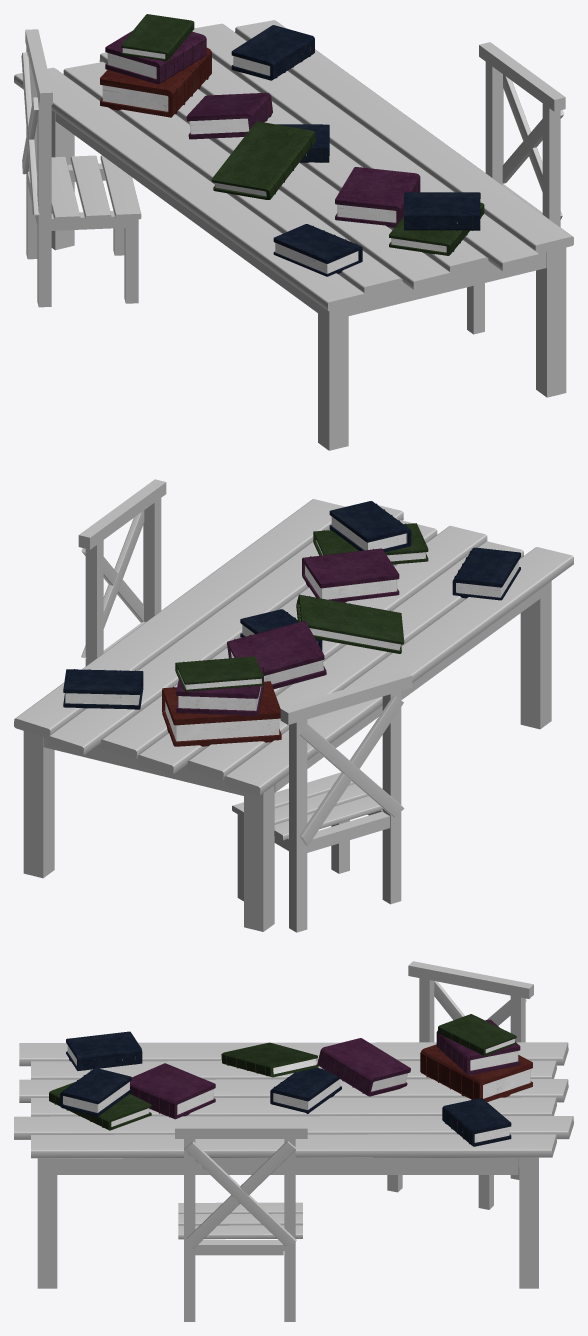
The model's file is SM_TableSet_02.fbx.
3 views of the same model, one above another, from view 1: azimuth 30°, elevation 25°; view 2: azimuth 150°, elevation 25°; view 3: azimuth 270°, elevation 25° (orthographic). The views are drawn at different scales.
Parts seen in each view (by area): view 1: SM_Table_01.001, SM_Chair_01.004, SM_Chair_01.005, BoolShelf_Low.077, BoolShelf_Low.072, BoolShelf_Low.074, BoolShelf_Low.076, BoolShelf_Low.079, BoolShelf_Low.078, BoolShelf_Low.083, BoolShelf_Low.081, BoolShelf_Low.082 (+2 smaller); view 2: SM_Table_01.001, SM_Chair_01.004, SM_Chair_01.005, BoolShelf_Low.072, BoolShelf_Low.077, BoolShelf_Low.074, BoolShelf_Low.076, BoolShelf_Low.079, BoolShelf_Low.083, BoolShelf_Low.078, BoolShelf_Low.082, BoolShelf_Low.081 (+2 smaller); view 3: SM_Table_01.001, SM_Chair_01.005, SM_Chair_01.004, BoolShelf_Low.076, BoolShelf_Low.072, BoolShelf_Low.074, BoolShelf_Low.078, BoolShelf_Low.083, BoolShelf_Low.079, BoolShelf_Low.077, BoolShelf_Low.075, BoolShelf_Low.082 (+2 smaller).
Part boxes in pixels (box(x1,y1,x2,y2)): SM_Table_01.001: box(14, 20, 573, 450); SM_Chair_01.004: box(21, 29, 141, 307); SM_Chair_01.005: box(467, 42, 565, 334); BoolShelf_Low.077: box(211, 121, 316, 199); BoolShelf_Low.072: box(100, 48, 211, 117); BoolShelf_Low.074: box(335, 167, 420, 227); BoolShelf_Low.076: box(186, 92, 272, 139); BoolShelf_Low.079: box(231, 25, 314, 80); BoolShelf_Low.078: box(273, 224, 362, 276); BoolShelf_Low.083: box(404, 192, 480, 230); BoolShelf_Low.081: box(105, 31, 206, 84); BoolShelf_Low.082: box(121, 14, 194, 61); SM_Table_01.001: box(14, 499, 573, 931); SM_Chair_01.004: box(232, 671, 412, 932); SM_Chair_01.005: box(78, 479, 166, 665); BoolShelf_Low.072: box(162, 681, 281, 746); BoolShelf_Low.077: box(296, 594, 404, 653); BoolShelf_Low.074: box(302, 548, 399, 602); BoolShelf_Low.076: box(227, 620, 326, 688); BoolShelf_Low.079: box(63, 669, 143, 709); BoolShelf_Low.083: box(329, 501, 411, 552); BoolShelf_Low.078: box(452, 547, 520, 600); BoolShelf_Low.082: box(175, 656, 263, 691); BoolShelf_Low.081: box(176, 667, 263, 715); SM_Table_01.001: box(14, 1042, 573, 1288); SM_Chair_01.005: box(175, 1123, 307, 1321); SM_Chair_01.004: box(387, 961, 533, 1209); BoolShelf_Low.076: box(317, 1038, 410, 1096); BoolShelf_Low.072: box(420, 1044, 532, 1102); BoolShelf_Low.074: box(130, 1063, 215, 1119); BoolShelf_Low.078: box(66, 1031, 142, 1070); BoolShelf_Low.083: box(60, 1068, 131, 1116); BoolShelf_Low.079: box(442, 1098, 511, 1146); BoolShelf_Low.077: box(221, 1042, 318, 1077); BoolShelf_Low.075: box(270, 1067, 341, 1113); BoolShelf_Low.082: box(438, 1014, 516, 1055).
Bounding box in the file's own units: 211 × 112 × 294.
